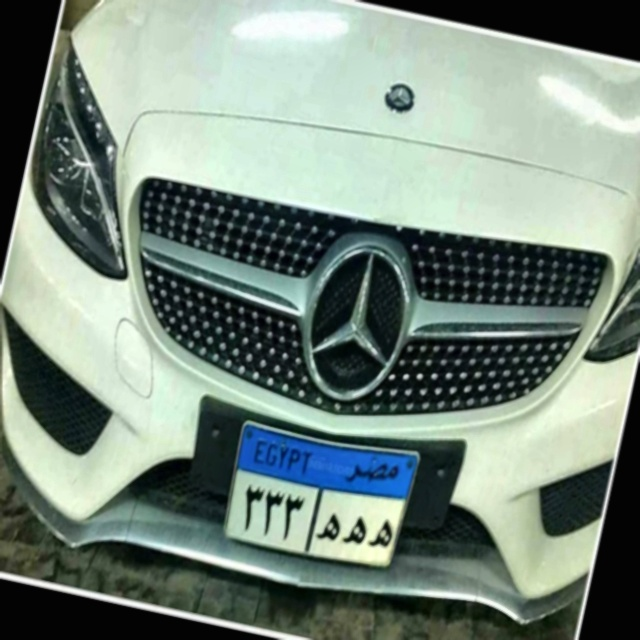License Plate: (215, 405, 424, 581)
